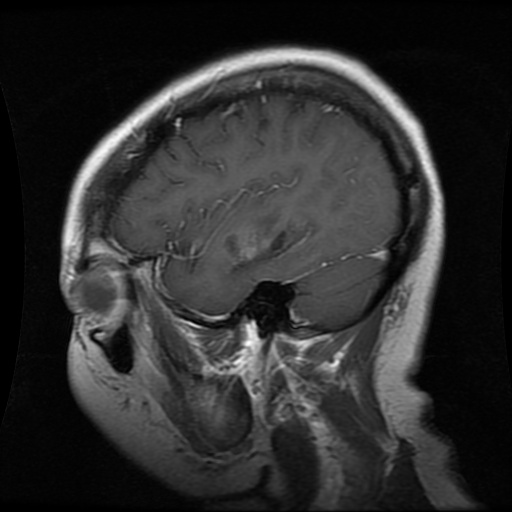glioma: (222, 226, 296, 274)
